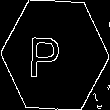P_N: (38, 29, 72, 81)
